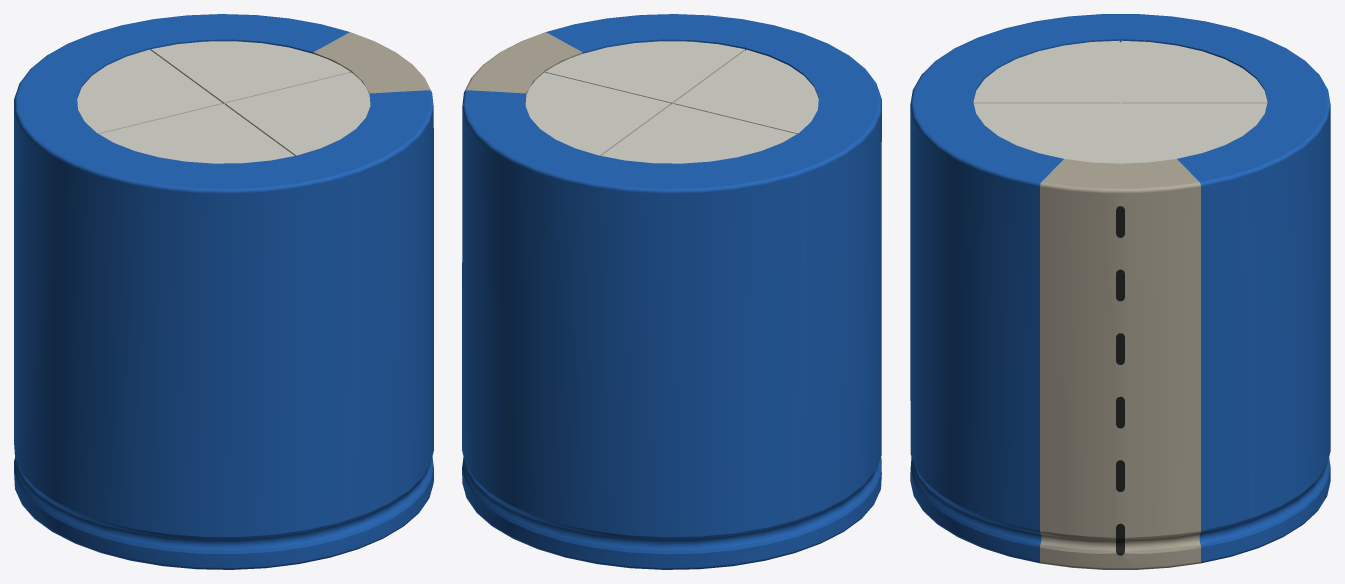
File: kc-cp_radial_d24.0mm_p10.00mm_snapin.glb
The picture shows the model from 3 angles, left to right: view 1: azimuth 30°, elevation 25°; view 2: azimuth 150°, elevation 25°; view 3: azimuth 270°, elevation 25°; orthographic projection.
Visible parts, largest first — view 1: 0_0.16666666666666666_0.5_0, 0.6666666666666666_0.6666666666666666_0.5833333333333334_0.8, 0.4166666666666667_0.4166666666666667_0.3333333333333333_0; view 2: 0_0.16666666666666666_0.5_0, 0.6666666666666666_0.6666666666666666_0.5833333333333334_0.8, 0.4166666666666667_0.4166666666666667_0.3333333333333333_0; view 3: 0_0.16666666666666666_0.5_0, 0.4166666666666667_0.4166666666666667_0.3333333333333333_0, 0.6666666666666666_0.6666666666666666_0.5833333333333334_0.8, 0_0_0_0.
Part boxes in pixels (box(x1,y1,x2,y2)): 0_0.16666666666666666_0.5_0: box(14, 14, 433, 569); 0.6666666666666666_0.6666666666666666_0.5833333333333334_0.8: box(77, 41, 370, 163); 0.4166666666666667_0.4166666666666667_0.3333333333333333_0: box(313, 32, 430, 94); 0_0.16666666666666666_0.5_0: box(462, 14, 881, 569); 0.6666666666666666_0.6666666666666666_0.5833333333333334_0.8: box(525, 41, 818, 163); 0.4166666666666667_0.4166666666666667_0.3333333333333333_0: box(465, 32, 582, 94); 0_0.16666666666666666_0.5_0: box(910, 14, 1330, 563); 0.4166666666666667_0.4166666666666667_0.3333333333333333_0: box(1040, 159, 1200, 569); 0.6666666666666666_0.6666666666666666_0.5833333333333334_0.8: box(973, 40, 1267, 163); 0_0_0_0: box(1116, 206, 1124, 555).
Bounding box in the file's own units: 2.4 × 2.6 × 2.4.
